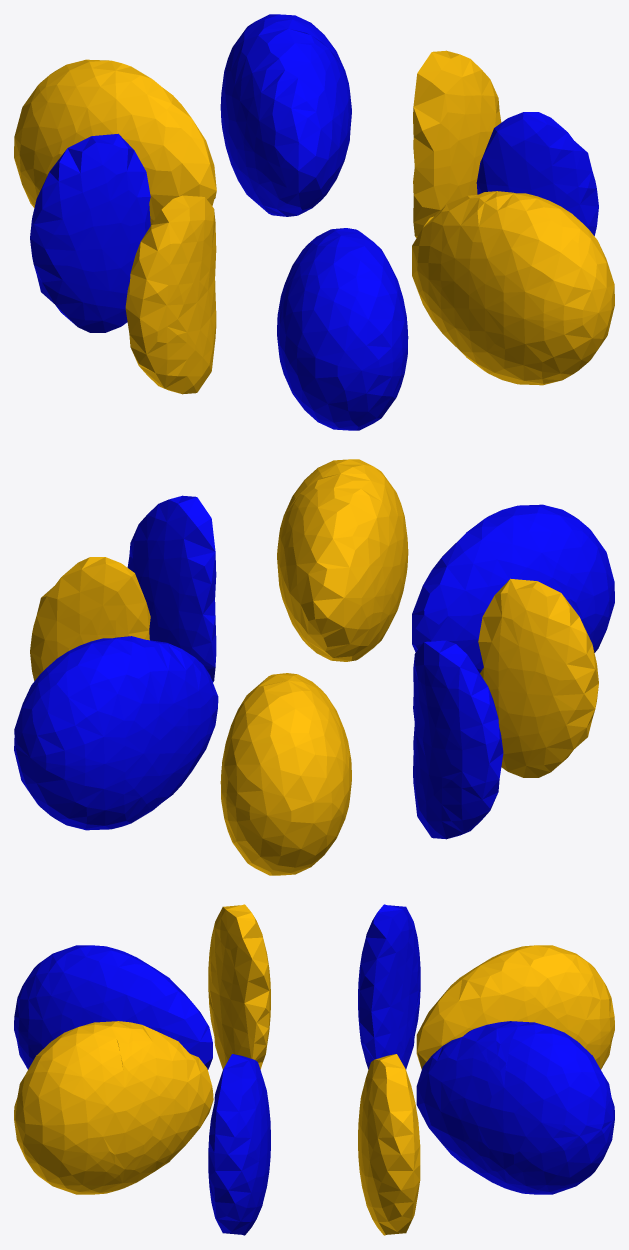
3 views of the same model, one above another, from view 1: azimuth 30°, elevation 25°; view 2: azimuth 150°, elevation 25°; view 3: azimuth 270°, elevation 25° (orthographic). The views are drawn at different scales.
Bounding box in the file's own units: 25.87 × 10.33 × 32.01.
